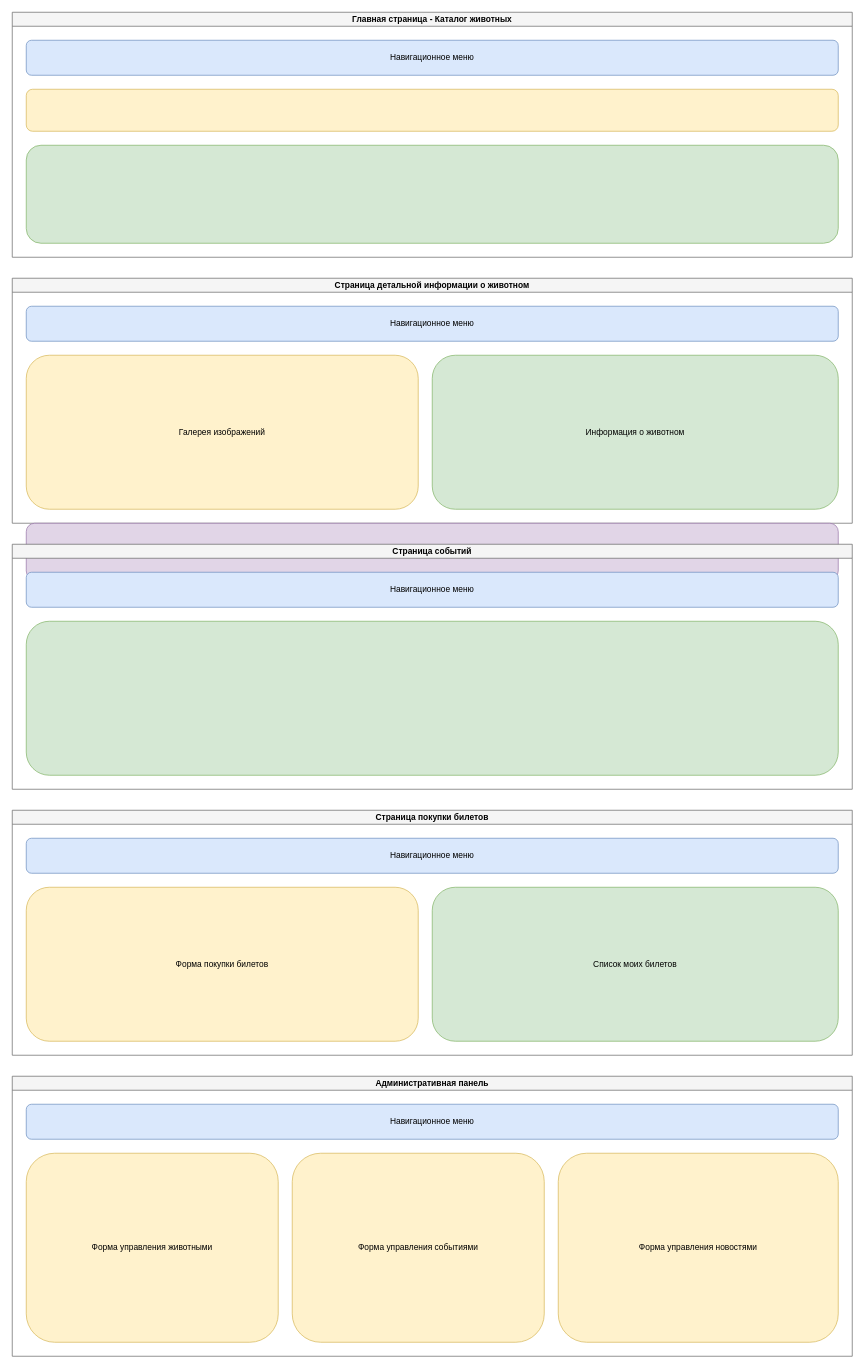
This 865x1369 diagram has some shape labels left out. Here are the shapes that lost their labels. From the top down, the centre of each, then its label:
At (x=432, y=110): "Поиск и фильтры".
At (x=432, y=194): "Карточки животных".
At (x=432, y=698): "Список событий".
